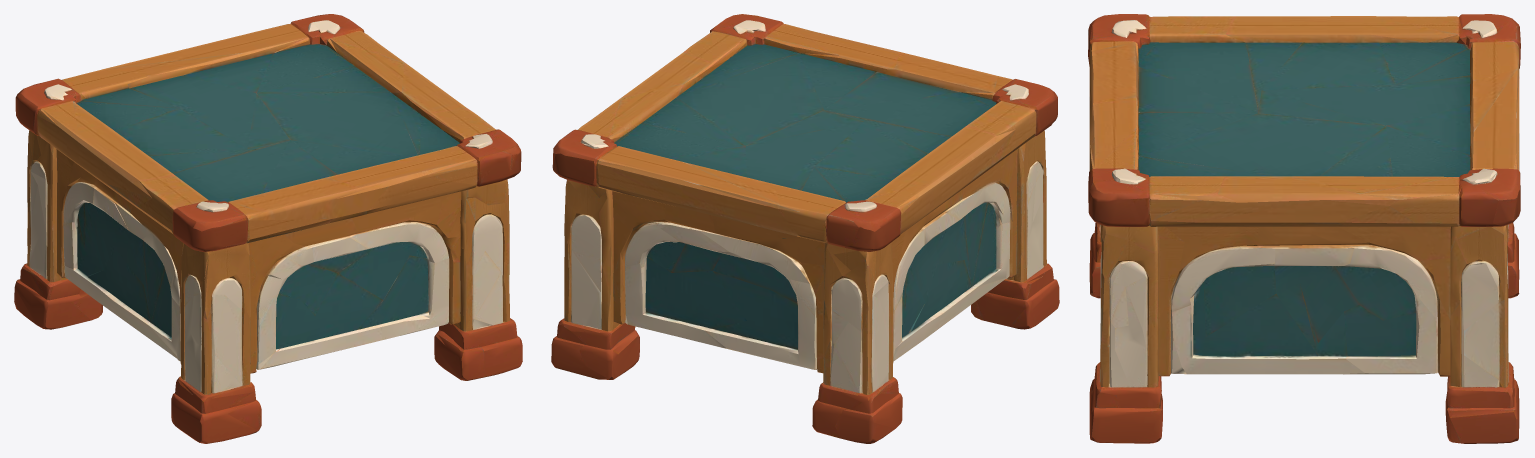
File: cardTable.glb
The picture shows the model from 3 angles, left to right: view 1: azimuth 30°, elevation 25°; view 2: azimuth 150°, elevation 25°; view 3: azimuth 270°, elevation 25°; orthographic projection. The views are drawn at different scales.
Visible parts, largest first — view 1: Mesh_0; view 2: Mesh_0; view 3: Mesh_0.
Part boxes in pixels (x1,y1,x2,y2): Mesh_0: (14,14,522,443); Mesh_0: (551,14,1059,443); Mesh_0: (1088,14,1520,443).
Bounding box in the file's own units: 0.8019 × 0.523 × 0.8.
Materials: 1 (1 with a texture image).
